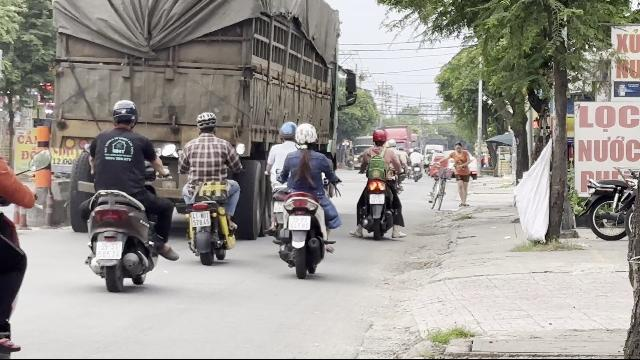helmet: (110, 99, 140, 129), (294, 122, 318, 148), (196, 112, 218, 134), (278, 121, 296, 141), (371, 128, 387, 146)
licenseplate: (96, 241, 120, 259), (289, 216, 311, 231), (191, 211, 211, 226), (370, 194, 384, 204)
motorcyclist: (76, 97, 176, 291), (268, 119, 342, 277), (179, 110, 241, 262), (353, 127, 407, 239)
